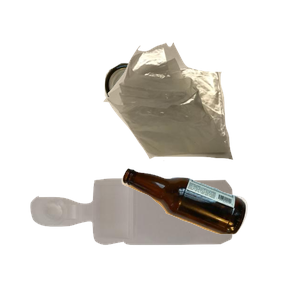glass: (119, 166, 300, 300)
metal: (102, 60, 252, 169)
plastic: (28, 176, 253, 300)
trash: (101, 40, 300, 192)
